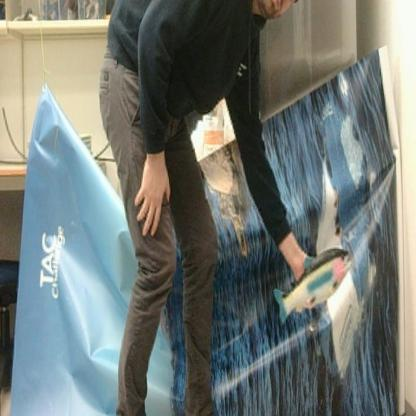rubberfish: (269, 242, 356, 330)
